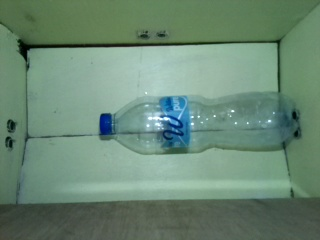bottle: (99, 93, 299, 154)
